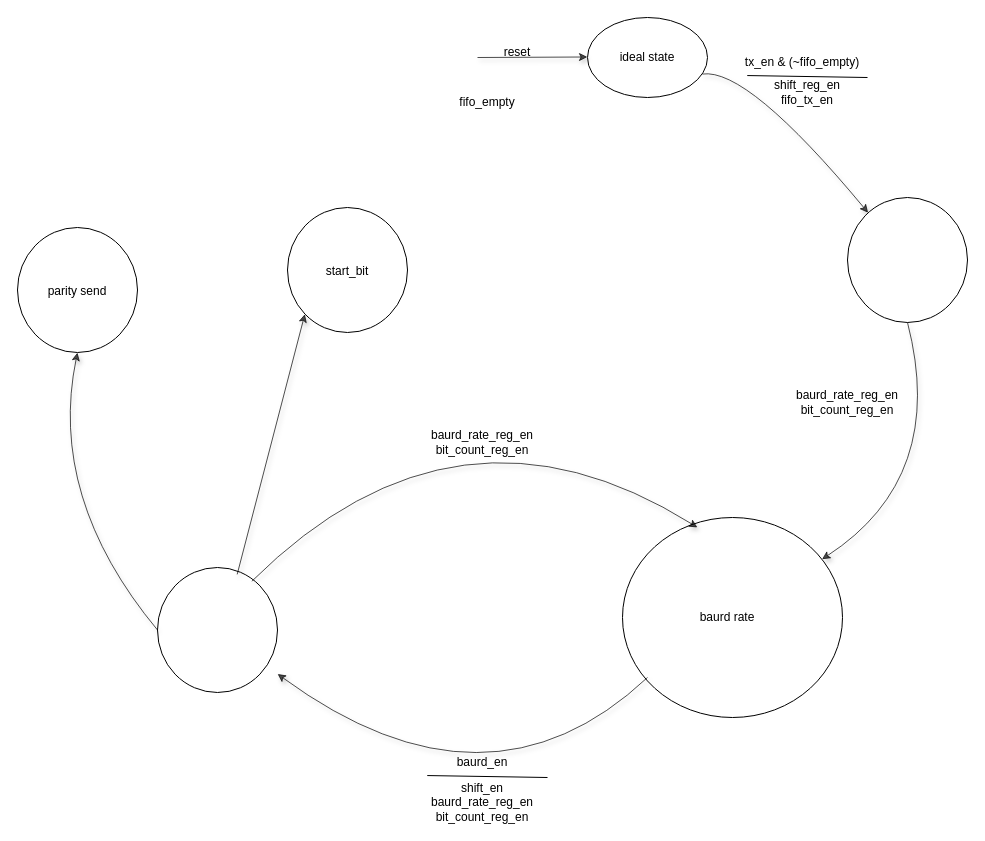
Some shapes in this 985 by 841 pixel diagram are drawn without their labels. Here are the shapes that lost their labels. From the top down, the centre of each, then its label:
point 907,259: load data
point 217,629: transmission bits
